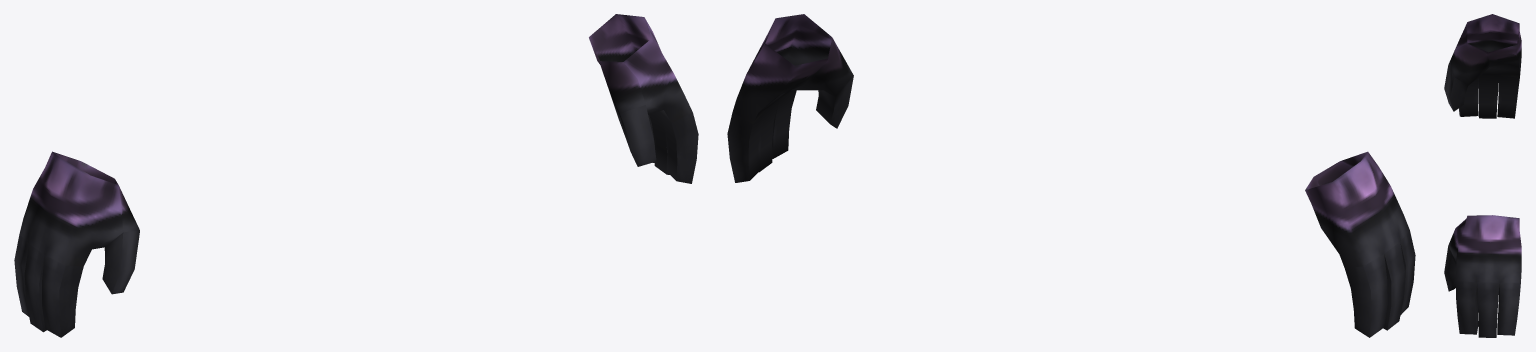
File: hum_varkolyn_01_227fe4cf.glb
The picture shows the model from 3 angles, left to right: view 1: azimuth 30°, elevation 25°; view 2: azimuth 150°, elevation 25°; view 3: azimuth 270°, elevation 25°; orthographic projection. The views are drawn at different scales.
Size of the model in its own units: 1.7 by 0.3987 by 0.2485.
1 material, 1 textured.
